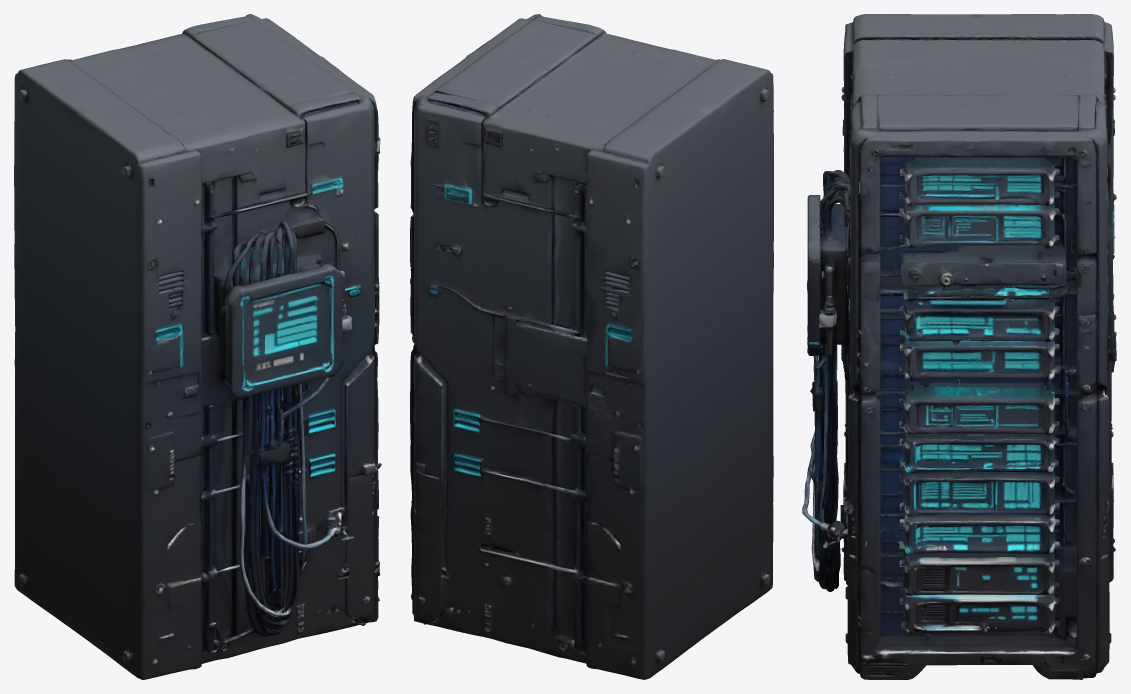
Rendered from server_rack.glb.
The picture shows the model from 3 angles, left to right: view 1: azimuth 30°, elevation 25°; view 2: azimuth 150°, elevation 25°; view 3: azimuth 270°, elevation 25°; orthographic projection. The views are drawn at different scales.
Visible parts, largest first — view 1: tripo_node_2c039174-fe10-45de-9b66-c07a92247112; view 2: tripo_node_2c039174-fe10-45de-9b66-c07a92247112; view 3: tripo_node_2c039174-fe10-45de-9b66-c07a92247112.
Boxes of the visible parts, x1,y1,x2,y2 form: tripo_node_2c039174-fe10-45de-9b66-c07a92247112: [14, 14, 381, 679]; tripo_node_2c039174-fe10-45de-9b66-c07a92247112: [410, 14, 773, 679]; tripo_node_2c039174-fe10-45de-9b66-c07a92247112: [802, 14, 1116, 679].
Bounding box in the file's own units: 0.5037 × 1 × 0.5212.
Materials: 1 (1 with a texture image).
